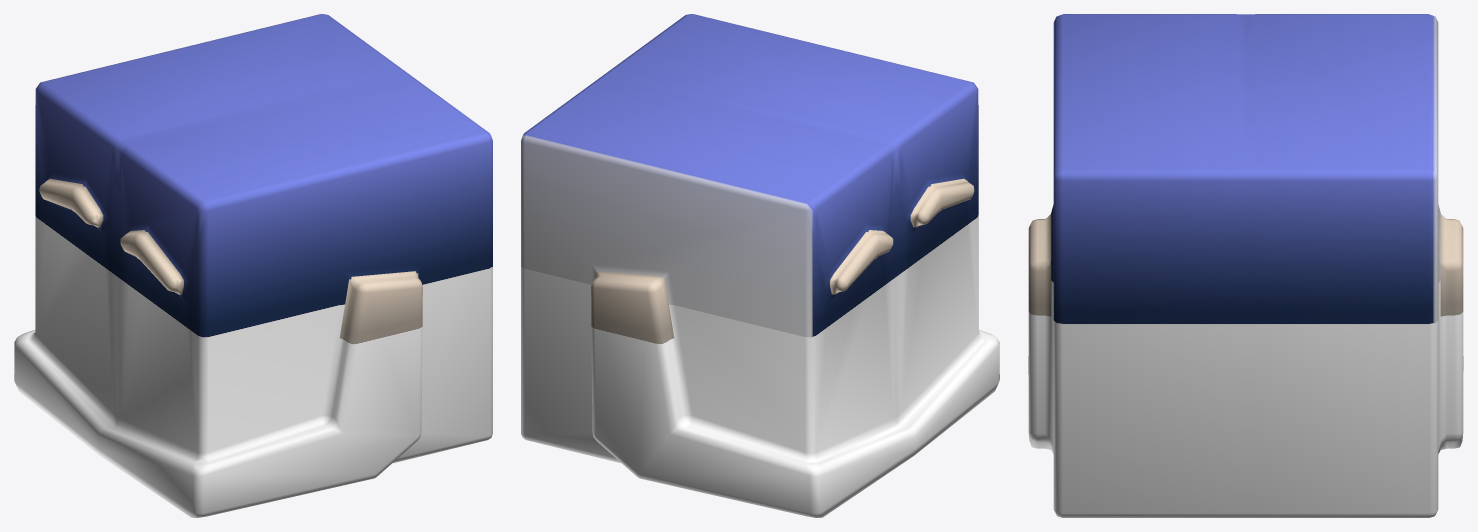
Rendered from JaredDiamond.obj.
3 renders of one model, left to right at view 1: azimuth 30°, elevation 25°; view 2: azimuth 150°, elevation 25°; view 3: azimuth 270°, elevation 25°, orthographic. The views are drawn at different scales.
Parts seen in each view (by area): view 1: Cube; view 2: Cube; view 3: Cube.
Part boxes in pixels (<box>): Cube: <box>14,14,492,517</box>; Cube: <box>521,14,999,517</box>; Cube: <box>1028,14,1463,517</box>.
Size of the model in its own units: 2.13 by 2.01 by 2.26.
